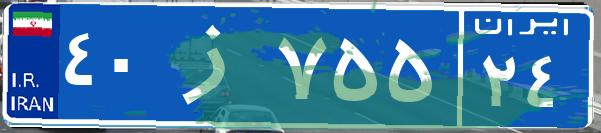0: (110, 28, 158, 105)
2: (475, 38, 525, 113)
4: (57, 26, 110, 107), (525, 38, 570, 115)
5: (385, 28, 445, 110), (330, 28, 385, 110)
7: (273, 28, 330, 110)
ز: (158, 15, 273, 115)
